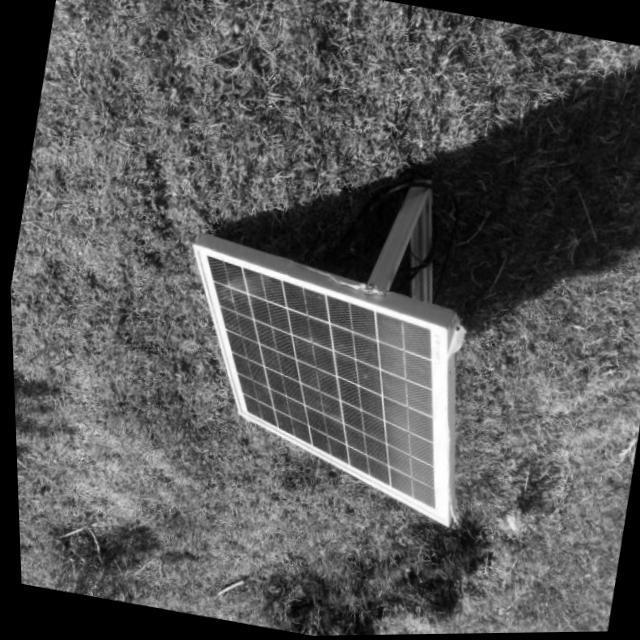Normal Solar Panel: (147, 242, 489, 530)
